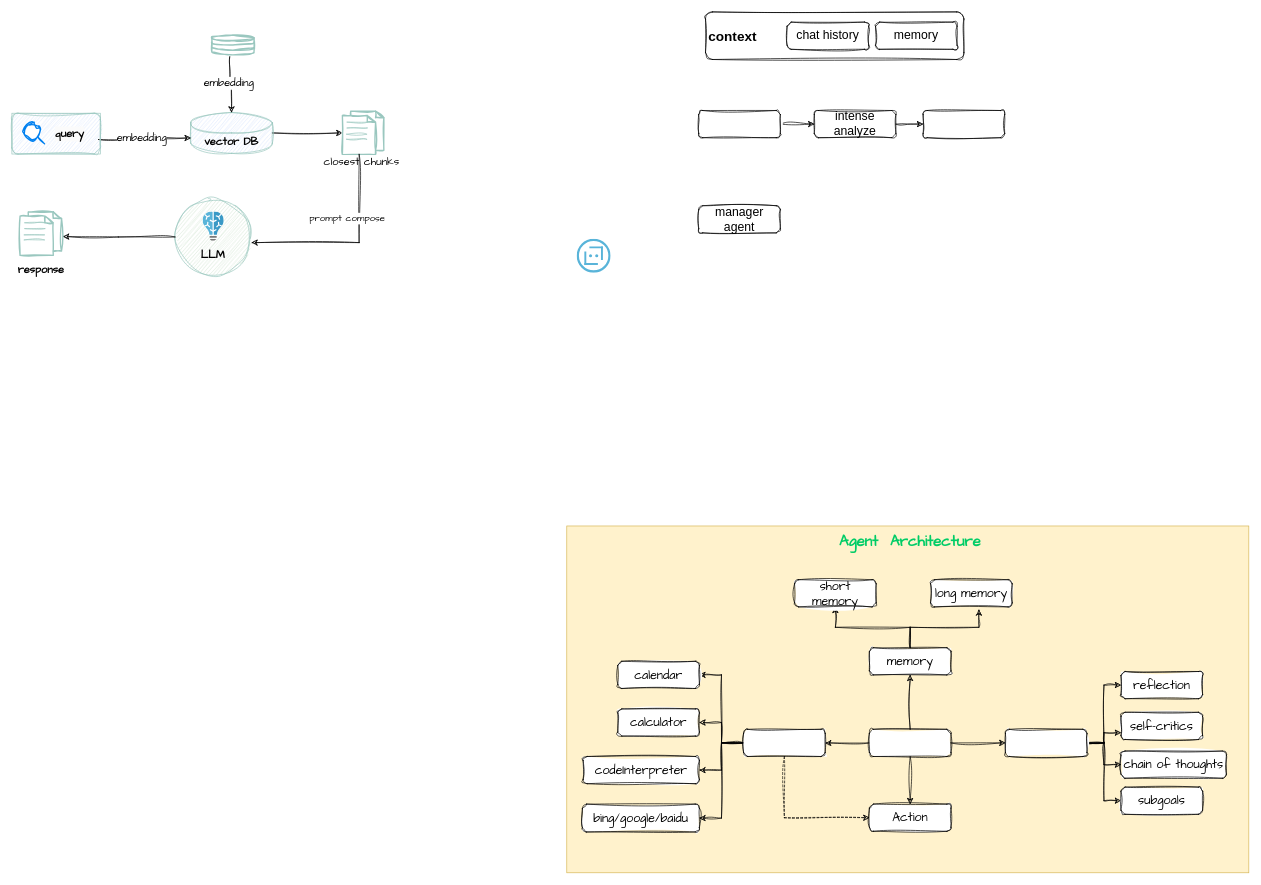
The diagram is 1261 pixels wide and 885 high, and some of its shapes have lost their labels. Here are the shapes that lost their labels. From the top down, the centre of each, then its label:
(232,44): additonal knowledge
(739,124): user query
(963,124): rewrite query
(784,742): tools
(910,742): agent
(1046,742): planning
